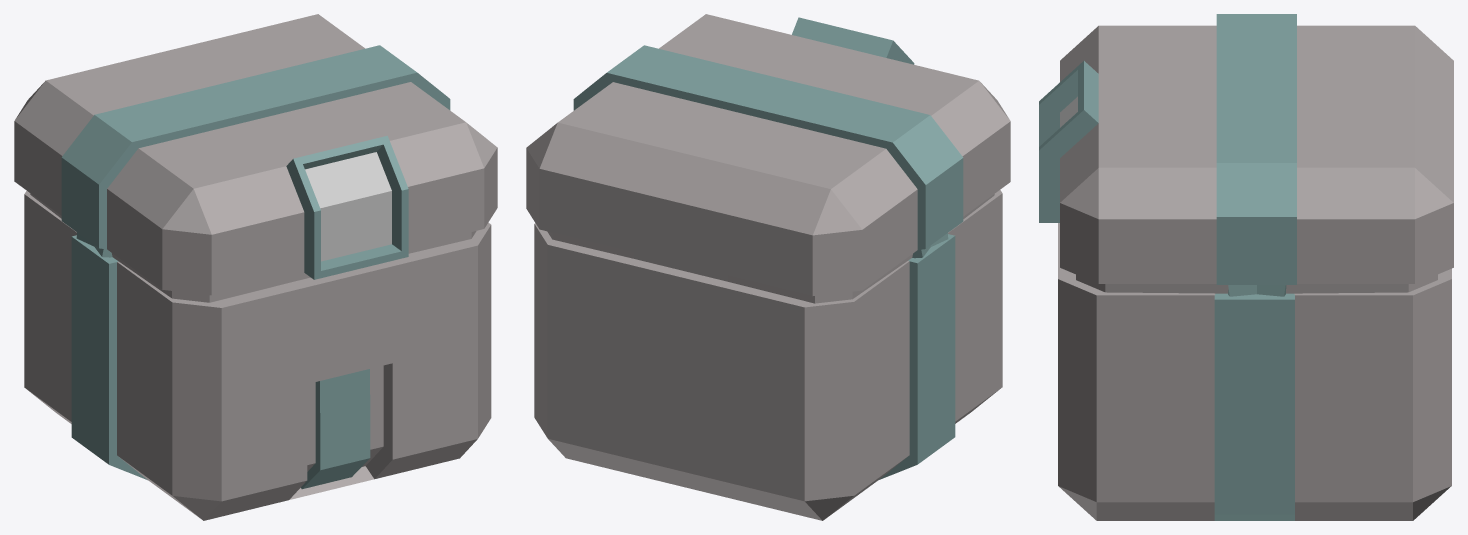
The model's file is Crate_05_2_Glow.fbx.
The picture shows the model from 3 angles, left to right: view 1: azimuth 30°, elevation 25°; view 2: azimuth 150°, elevation 25°; view 3: azimuth 270°, elevation 25°; orthographic projection. The views are drawn at different scales.
Visible parts, largest first — view 1: Crate_05_2_Glow; view 2: Crate_05_2_Glow; view 3: Crate_05_2_Glow.
Boxes of the visible parts, <box> form: Crate_05_2_Glow: <box>14,14,497,520</box>; Crate_05_2_Glow: <box>526,14,1010,520</box>; Crate_05_2_Glow: <box>1039,14,1453,520</box>.
Bounding box in the file's own units: 82.54 × 77.73 × 78.89.
Materials: 2 (2 with a texture image).
